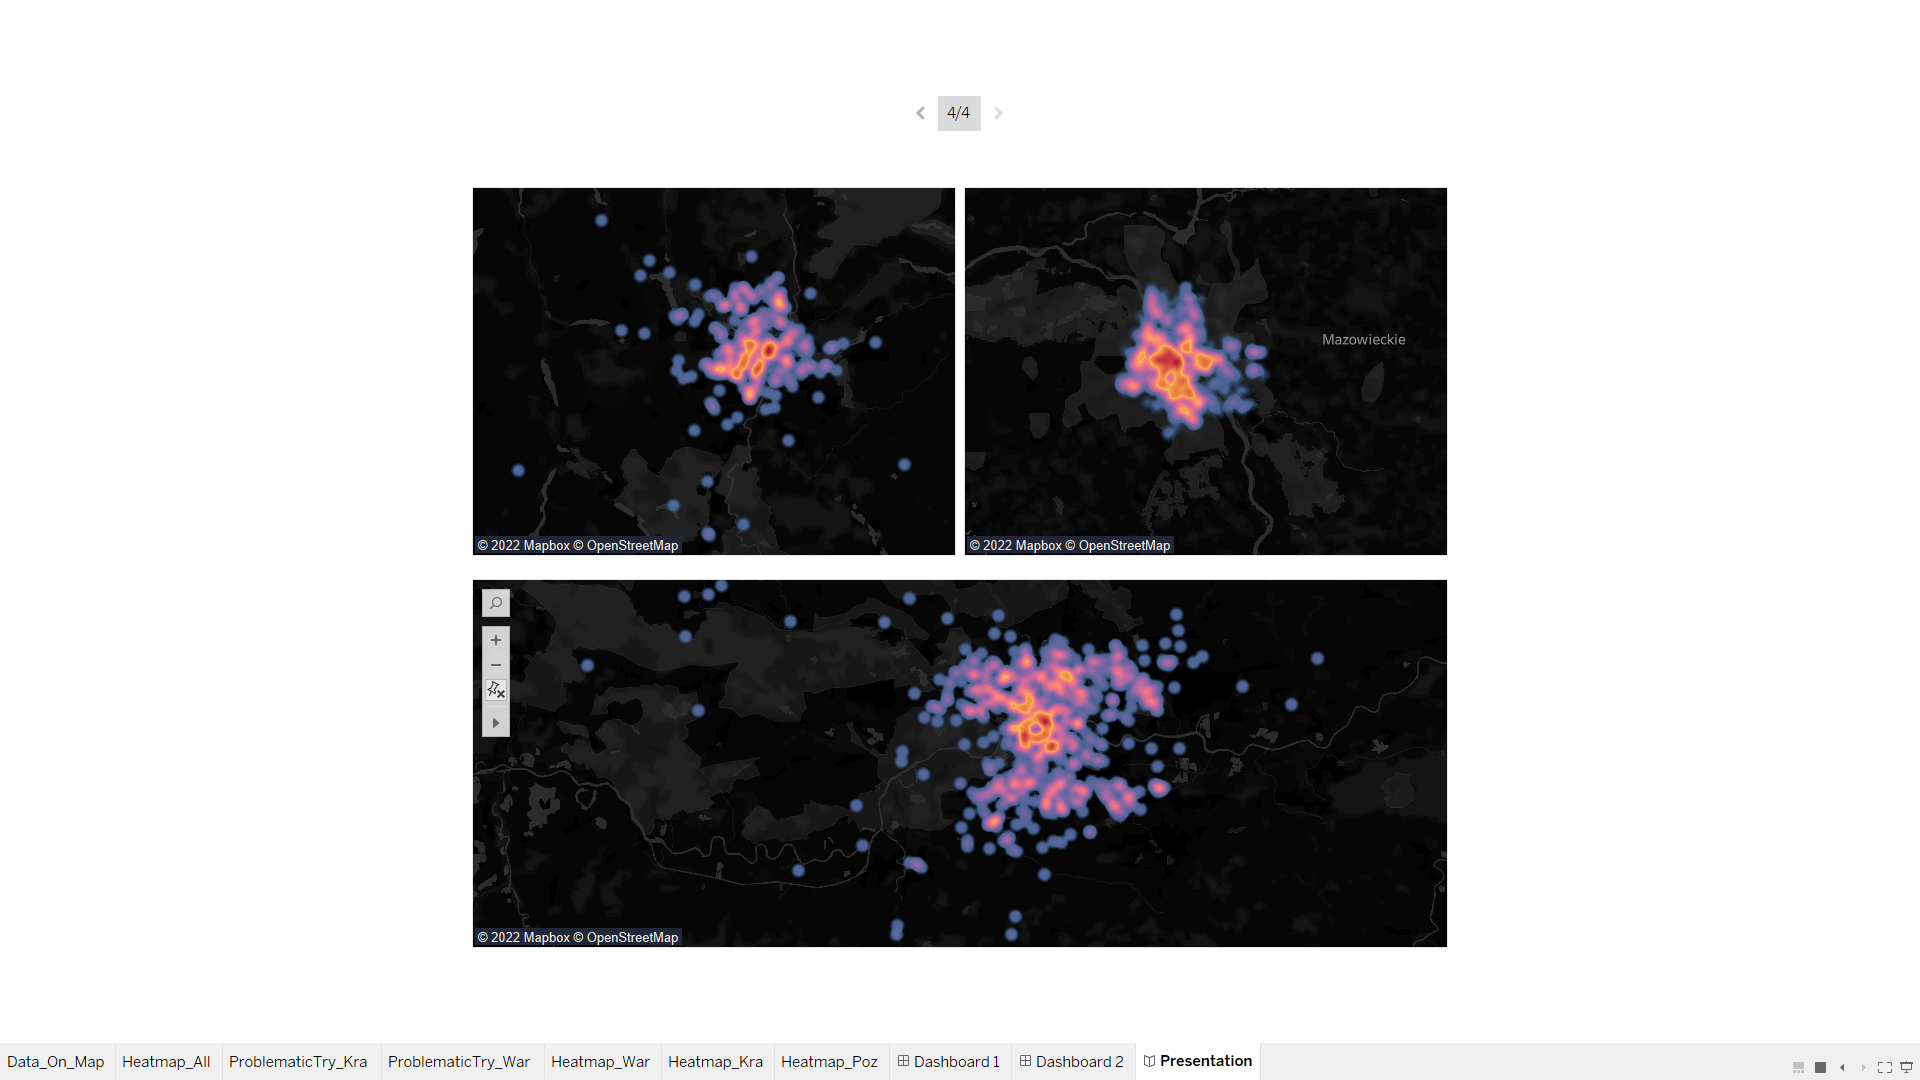

This screenshot's page, from the dashboard's own definition file:
{"tool":"tableau","page":{"name":"Dashboard 2","canvas":[1000,800],"ordinal":1},"visuals":[{"type":"worksheet","title":"Heatmap_Poz","mark":"Heatmap","rows":["latitude"],"cols":["longitude"],"box":[8,8,492,392]},{"type":"worksheet","title":"Heatmap_War","mark":"Heatmap","rows":["latitude"],"cols":["longitude"],"box":[500,8,492,392]},{"type":"worksheet","title":"Heatmap_Kra","mark":"Heatmap","rows":["latitude"],"cols":["longitude"],"box":[8,400,984,392]}]}

Visuals, with their boxes on the page's 1000x800 design canvas (x1, y1, x2, y2). These are canvas units, not pixel positions in the 1920x1080 screenshot, which may show the page scaled, cropped or inside an application window:
"Heatmap_Poz" worksheet (Heatmap marks): x1=8 y1=8 x2=500 y2=400
"Heatmap_War" worksheet (Heatmap marks): x1=500 y1=8 x2=992 y2=400
"Heatmap_Kra" worksheet (Heatmap marks): x1=8 y1=400 x2=992 y2=792
